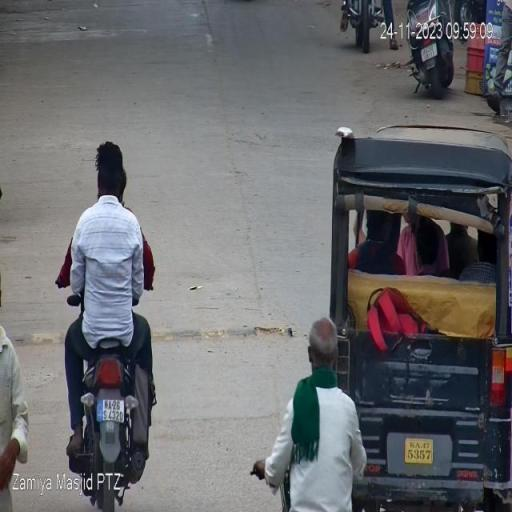numberplate: (96, 398, 125, 423)
